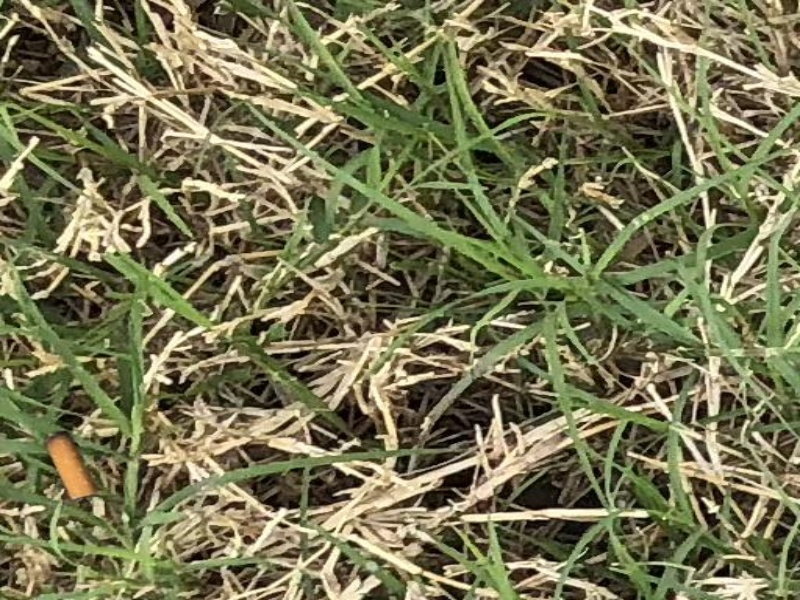cig: (40, 429, 100, 505)
